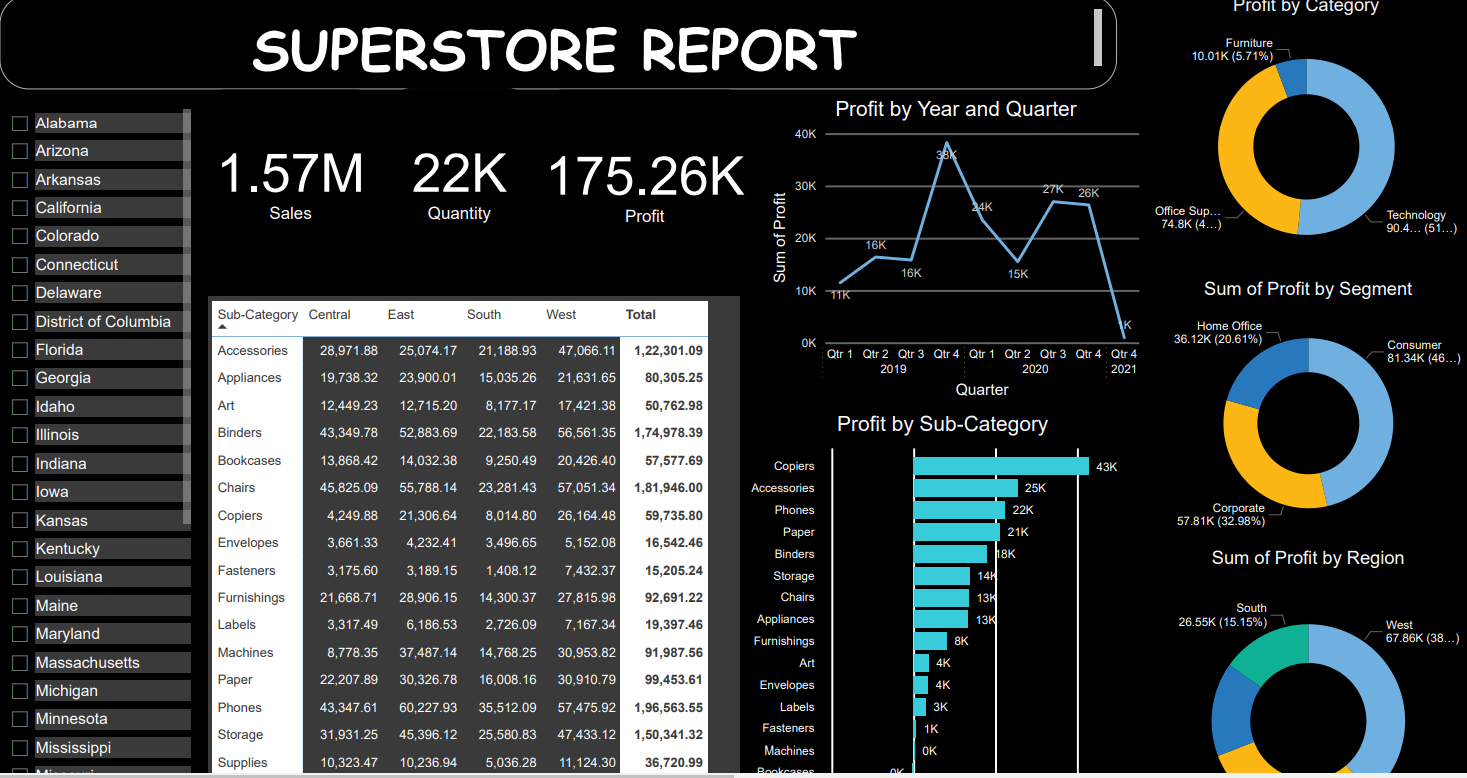

This screenshot's page, from the dashboard's own definition file:
{"tool":"powerbi","page":{"name":"Page 1","canvas":[1500,900],"ordinal":0},"visuals":[{"type":"donutChart","title":"Profit by Category","fields":{"Y":["Sum(Sheet1.Profit)"],"Category":["Sheet1.Category"]},"box":[1175.1,0,321.2,290.8],"z":0},{"type":"donutChart","fields":{"Y":["Sum(Sheet1.Profit)"],"Category":["Sheet1.Segment"]},"box":[1175.1,290.8,324.6,273.9],"z":1000},{"type":"donutChart","fields":{"Y":["Sum(Sheet1.Profit)"],"Category":["Sheet1.Region"]},"box":[1175.1,564.7,324.6,334.8],"z":2000},{"type":"lineChart","title":"Profit by Year and Quarter","fields":{"Y":["Sum(Sheet1.Profit)"],"Category":["Sheet1.Ship Date.Variation.Date Hierarchy.Year","Sheet1.Order Date.Variation.Date Hierarchy.Quarter"]},"box":[784.5,104.8,385.5,312.8],"z":3000},{"type":"barChart","title":" Profit by Sub-Category","fields":{"Y":["Sum(Sheet1.Profit)"],"Category":["Sheet1.Sub-Category"]},"box":[755.8,427.8,415.9,471.7],"z":4000},{"type":"slicer","fields":{"Values":["Sheet1.State"]},"box":[0,111.6,201.2,787.9],"z":5000},{"type":"textbox","box":[0,0,1142,97],"z":6000},{"type":"pivotTable","fields":{"Rows":["Sheet1.Sub-Category"],"Columns":["Sheet1.Region"],"Values":["Sum(Sheet1.Sales)"]},"box":[213,309.4,542.7,590.1],"z":7000},{"type":"card","fields":{"Values":["Sum(Sheet1.Sales)"]},"box":[201,97,193,184],"z":8000},{"type":"card","fields":{"Values":["Sum(Sheet1.Profit)"]},"box":[546,97,227,190],"z":9000},{"type":"card","fields":{"Values":["Sum(Sheet1.Quantity)"]},"box":[394,95,152,188],"z":10000}]}

Visuals, with their boxes on the page's 1500x900 design canvas (x1, y1, x2, y2). These are canvas units, not pixel positions in the 1467x778 screenshot, which may show the page scaled, cropped or inside an application window:
"Profit by Category" donutChart: rect(1175, 0, 1496, 291)
donutChart - Sum(Sheet1.Profit) x Sheet1.Segment: rect(1175, 291, 1500, 565)
donutChart - Sum(Sheet1.Profit) x Sheet1.Region: rect(1175, 565, 1500, 900)
"Profit by Year and Quarter" lineChart: rect(784, 105, 1170, 418)
" Profit by Sub-Category" barChart: rect(756, 428, 1172, 900)
slicer - Sheet1.State: rect(0, 112, 201, 900)
textbox: rect(0, 0, 1142, 97)
pivotTable - Sheet1.Sub-Category x Sheet1.Region: rect(213, 309, 756, 900)
card - Sum(Sheet1.Sales): rect(201, 97, 394, 281)
card - Sum(Sheet1.Profit): rect(546, 97, 773, 287)
card - Sum(Sheet1.Quantity): rect(394, 95, 546, 283)
